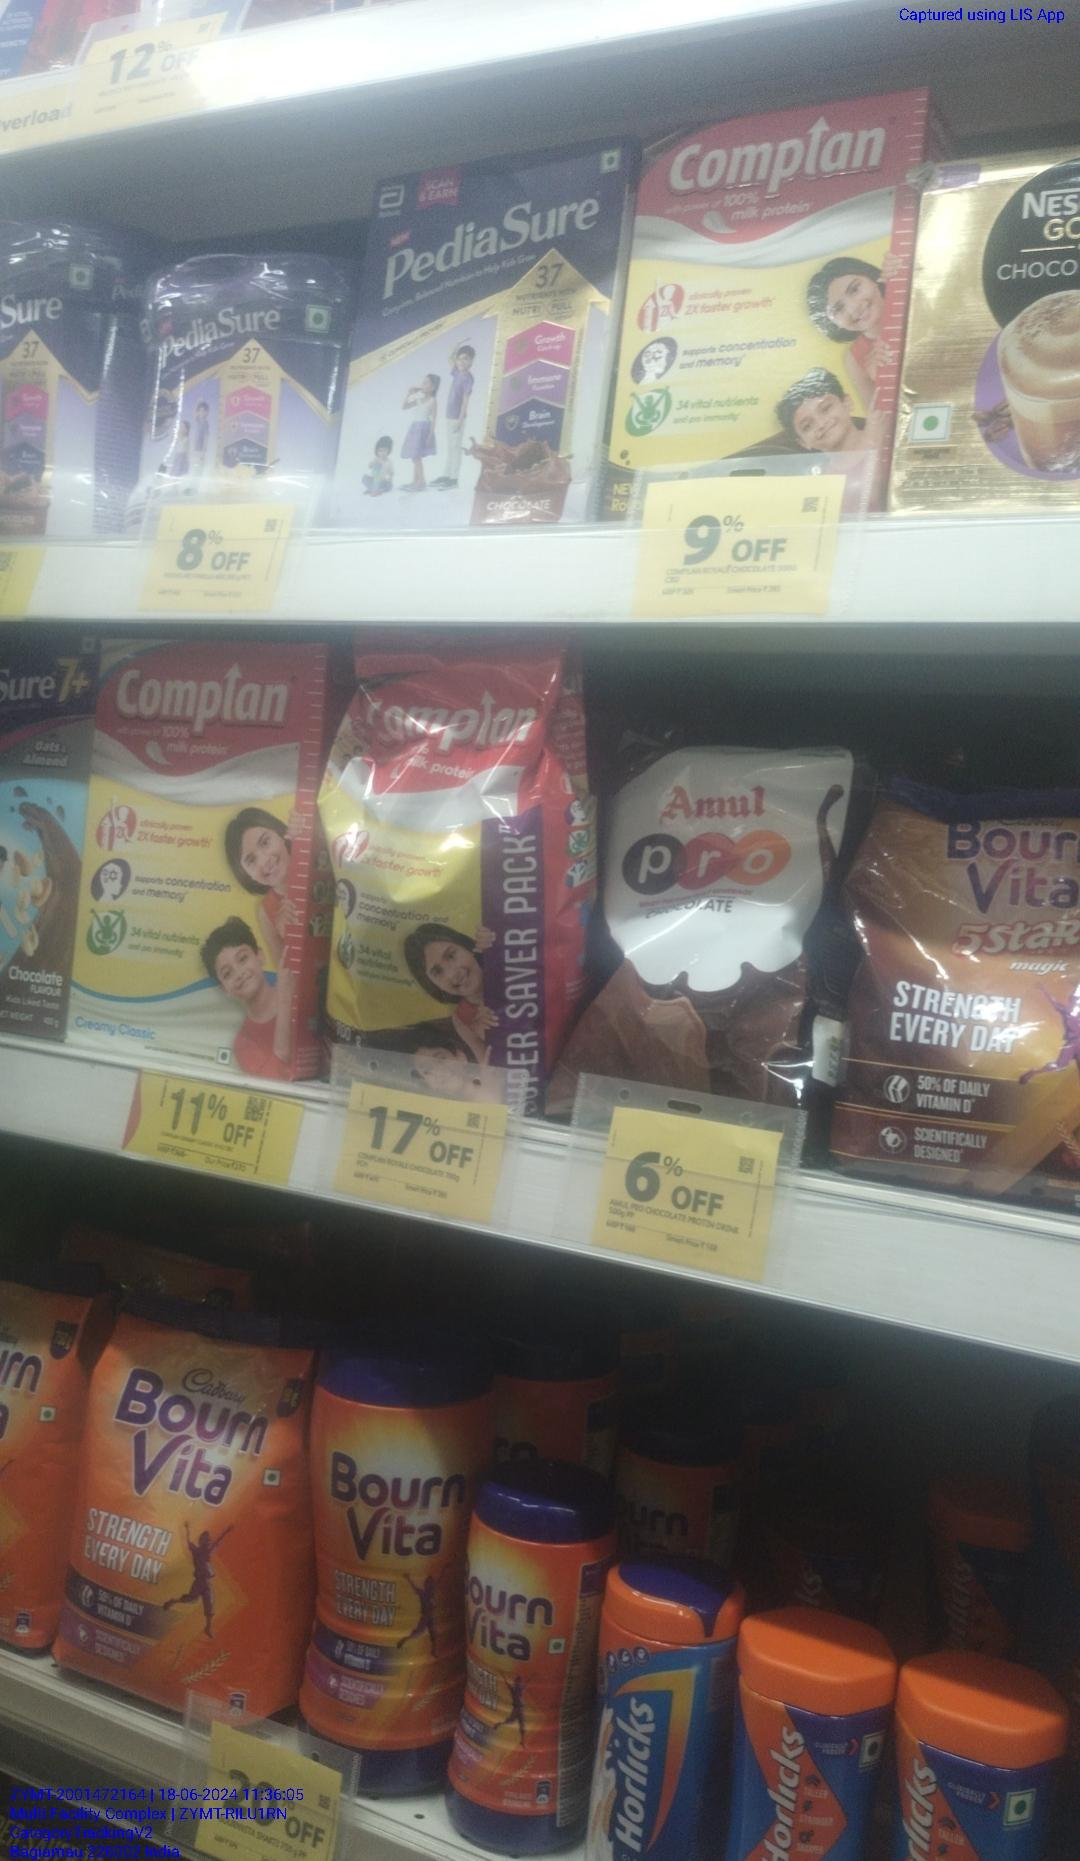BOURN_VITA_1_KG_JAR: (318, 1358, 459, 1756)
BOURN_VITA_500_G_JAR: (465, 1473, 580, 1855)
BOURN_VITA_750_G_POUCH: (59, 1330, 309, 1685)
BOURN_VITA_FIVE_STAR_MAGIC_500_G_POUCH: (836, 771, 1079, 1179)
COMPLAN_CHOCOLATE_500_GMS_PACK: (625, 107, 908, 468)
COMPLAN_CREAMY_CLASSIC_500_G_PACK: (72, 645, 319, 1049)
COMPLAN_RC_POUCH_700_GMS_12: (329, 645, 567, 1076)
HORLICK_CLASSIC_MALT_500_G_JAR: (585, 1565, 694, 1861)
PEDIASURE_CHOCOLATE_500_G_PACK: (332, 148, 615, 531)
